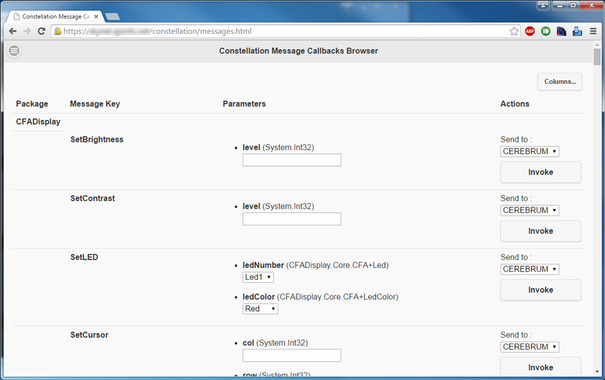_form_: (189, 1, 605, 380), (1, 1, 416, 380)
button: (500, 159, 581, 184), (499, 219, 581, 243), (499, 278, 582, 301), (536, 71, 583, 92)
field: (236, 347, 342, 363), (236, 152, 342, 167), (240, 211, 342, 226)
select: (500, 340, 559, 354), (500, 263, 561, 275), (500, 146, 560, 158), (500, 204, 559, 216), (243, 303, 280, 315), (242, 271, 275, 283)
